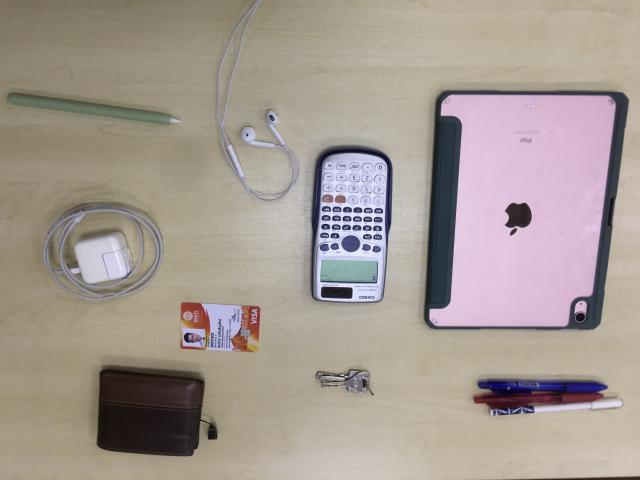Keys: (313, 368, 376, 398)
Pen: (473, 377, 622, 416)
Wallet: (95, 366, 205, 459)
wire: (216, 0, 299, 202), (39, 201, 166, 305)
